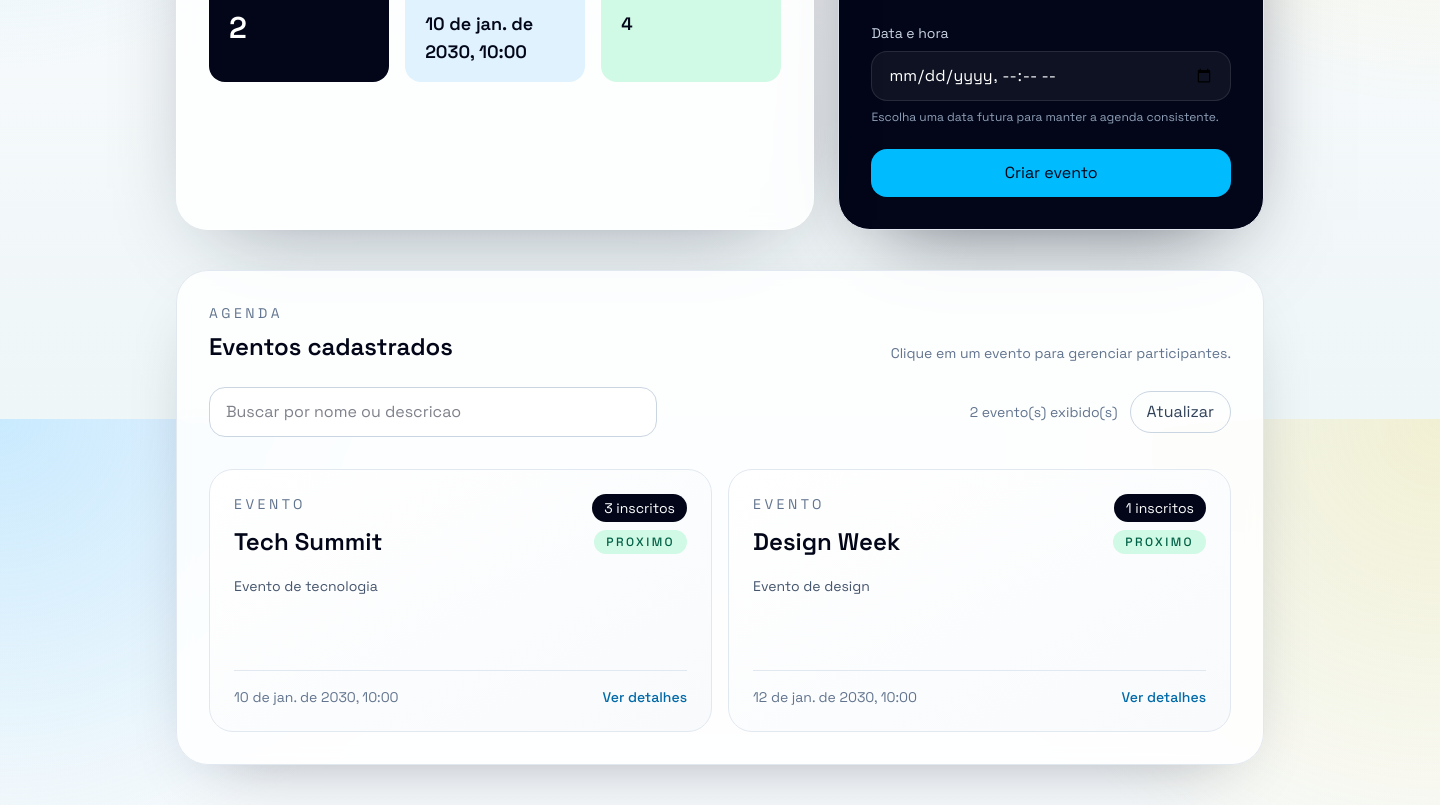
Test: HomePage › loads and filters events
(page scrolled)
Check: the heading "Tech Summit" is shown, box top-left (234, 526), bottom-right (382, 558)
Check: the heading "Design Week" is shown, box top-left (753, 526), bottom-right (900, 558)
In the field with placeholder "Buscar por nome ou descricao": {"x": 433, "y": 412} top-left (209, 387), bottom-right (657, 437), type "Design"
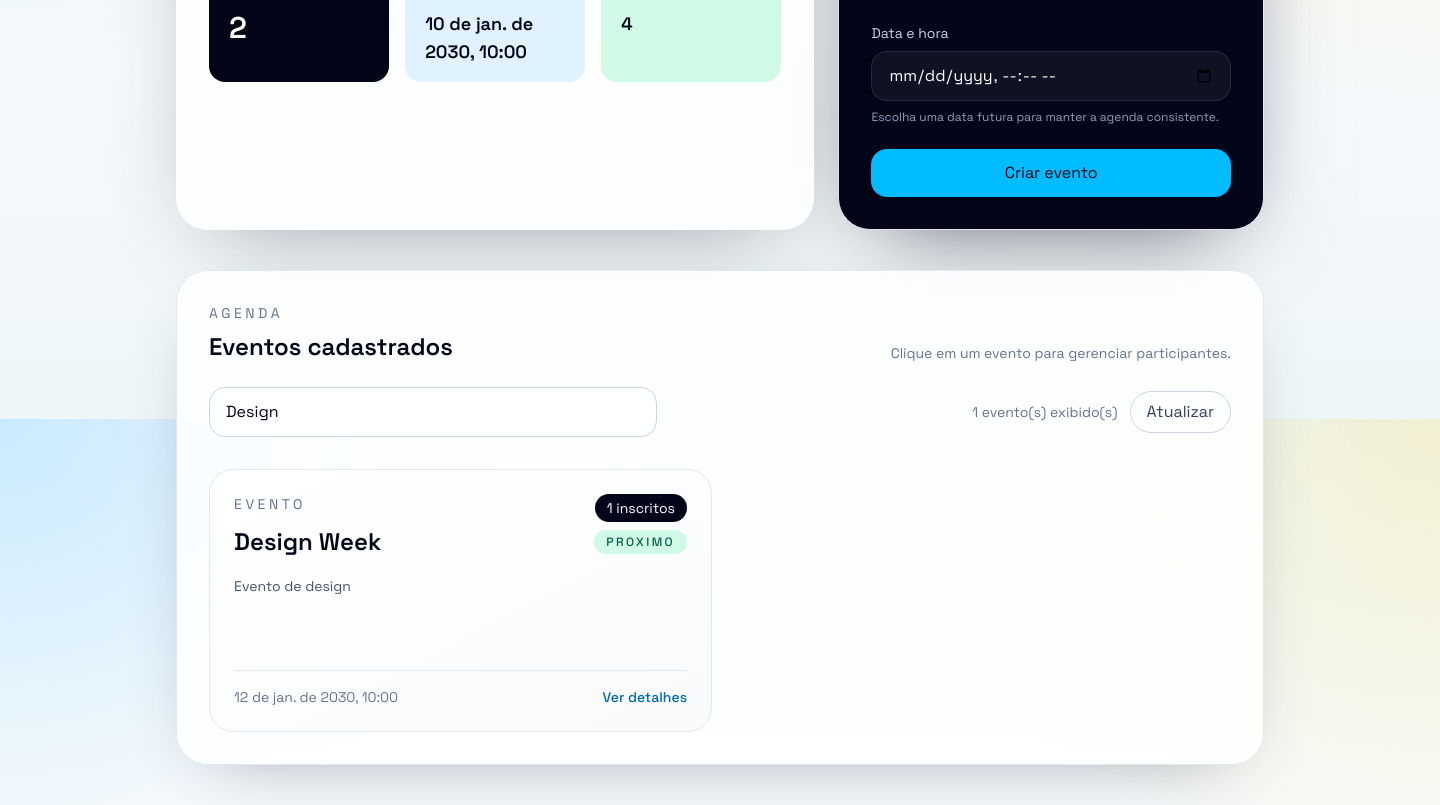
Check: the heading "Design Week" is shown, box top-left (234, 526), bottom-right (381, 558)
Check: the link "Tech Summit" is gone
